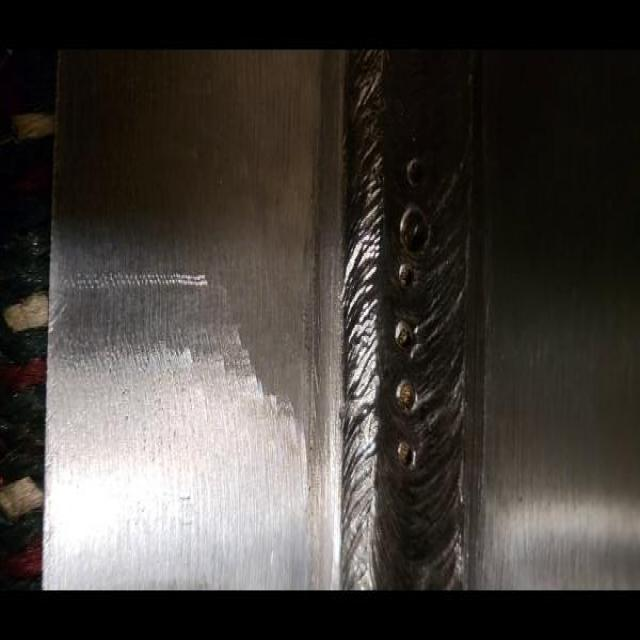Welding Line: (350, 47, 486, 579)
Workpiece: (54, 53, 640, 587)
porosity: (394, 157, 428, 467)
